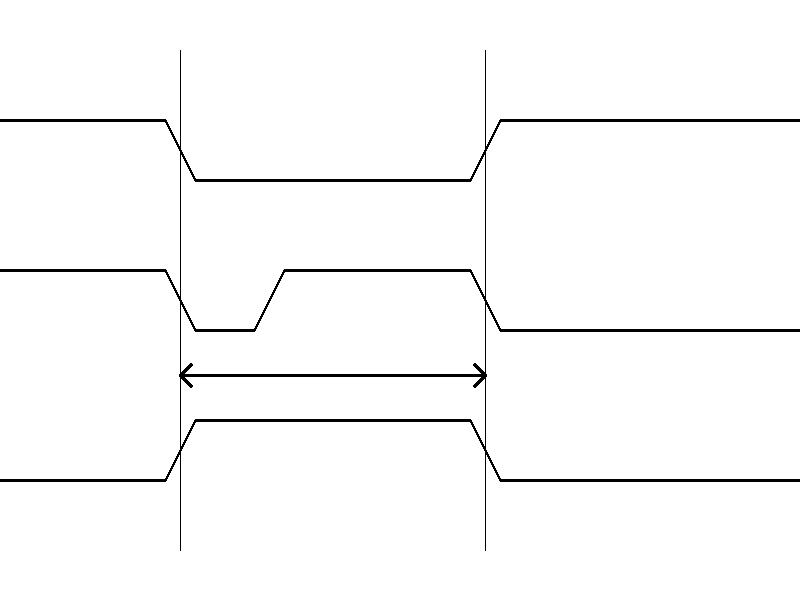double_arrow: (180, 360, 485, 390)
